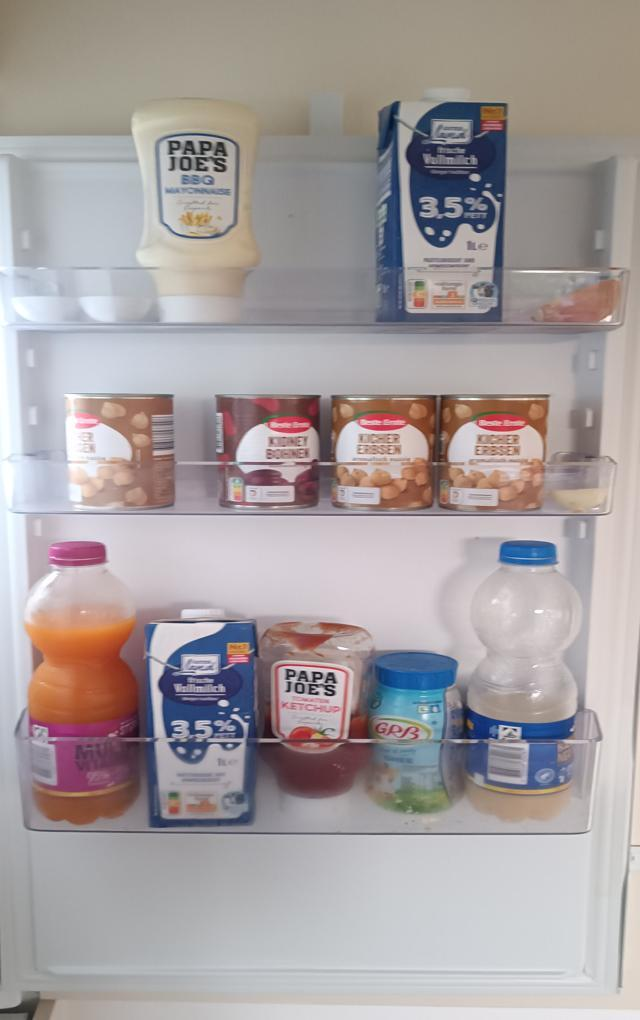bananajuice: (472, 536, 582, 818)
chickpeas: (61, 391, 178, 510), (439, 393, 548, 511), (333, 391, 434, 511)
ghee: (370, 647, 466, 812)
kidneybeans: (215, 395, 321, 505)
mayoniasie: (132, 96, 262, 321)
milk: (380, 87, 503, 325), (148, 605, 257, 823)
orangejuice: (24, 541, 139, 827)
tomatoketchup: (257, 620, 368, 814)
